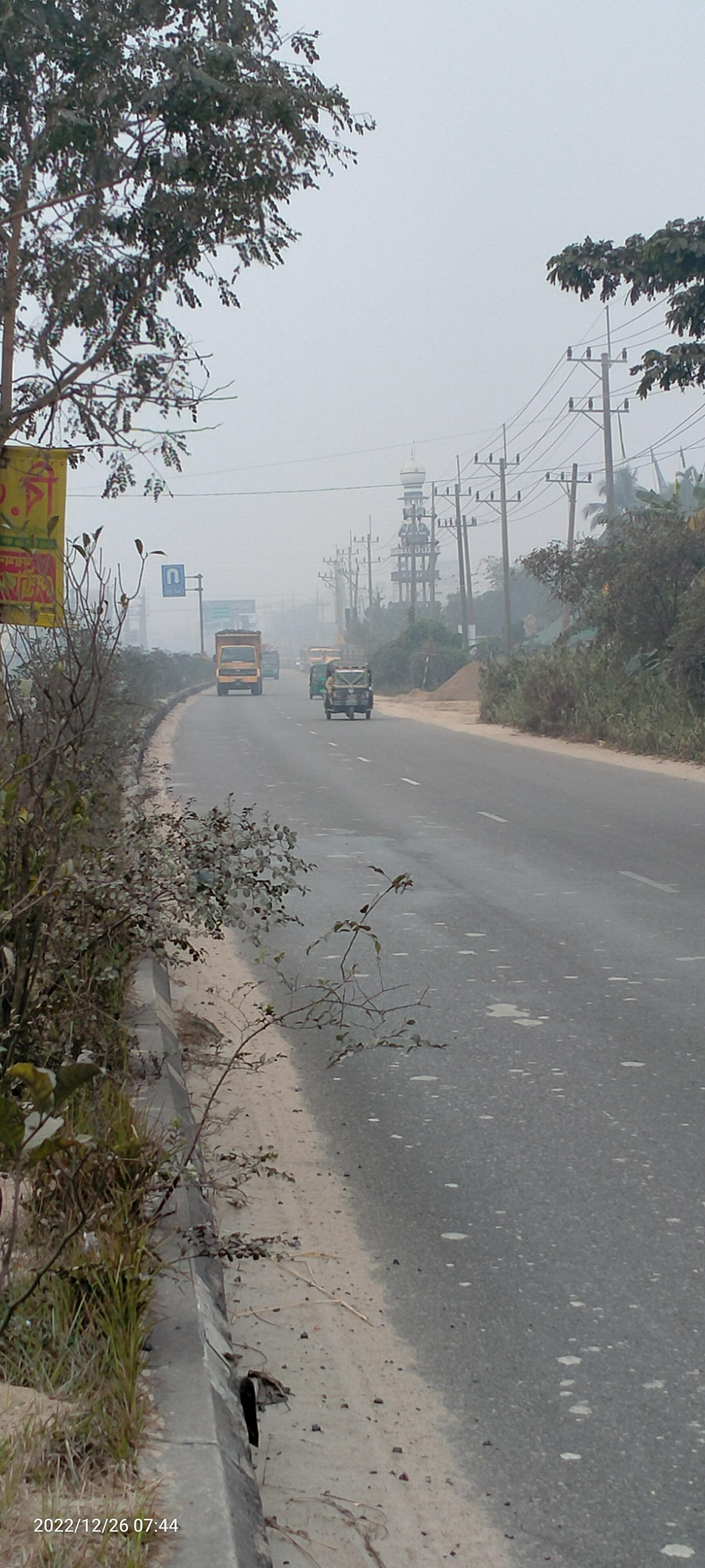Truck: (210, 627, 270, 699), (257, 642, 289, 689)
